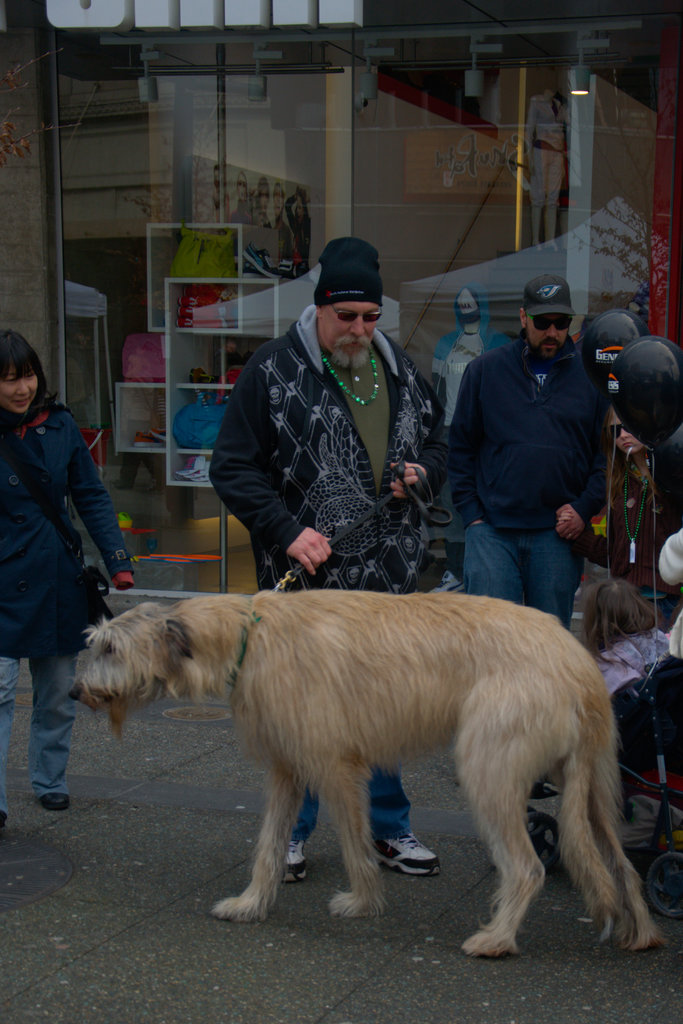Person: (200, 233, 683, 786), (0, 327, 133, 830)
